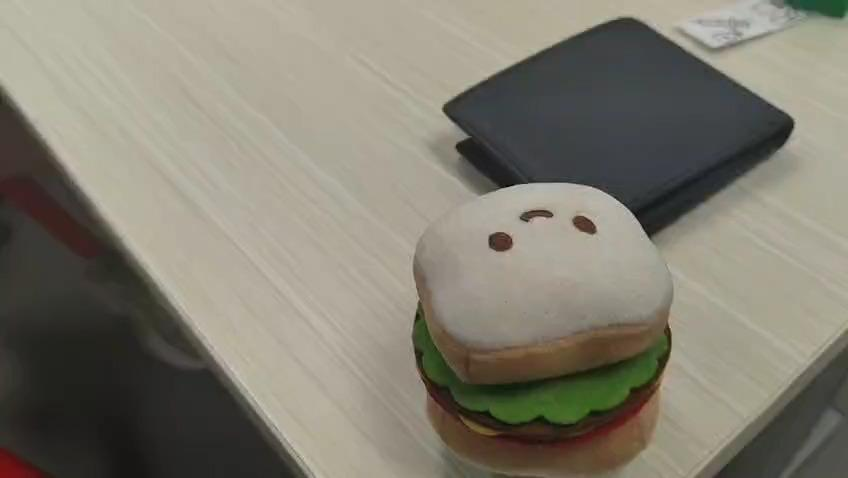objects: (409, 188, 677, 473)
